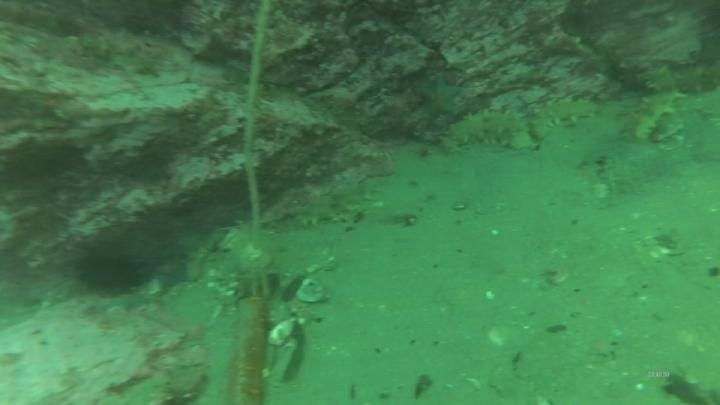echinus: (72, 239, 149, 298)
holothurian: (437, 106, 541, 157), (281, 179, 378, 232), (627, 63, 688, 145), (526, 93, 609, 140), (667, 55, 720, 91)
starfish: (415, 73, 464, 121), (96, 289, 154, 316)
